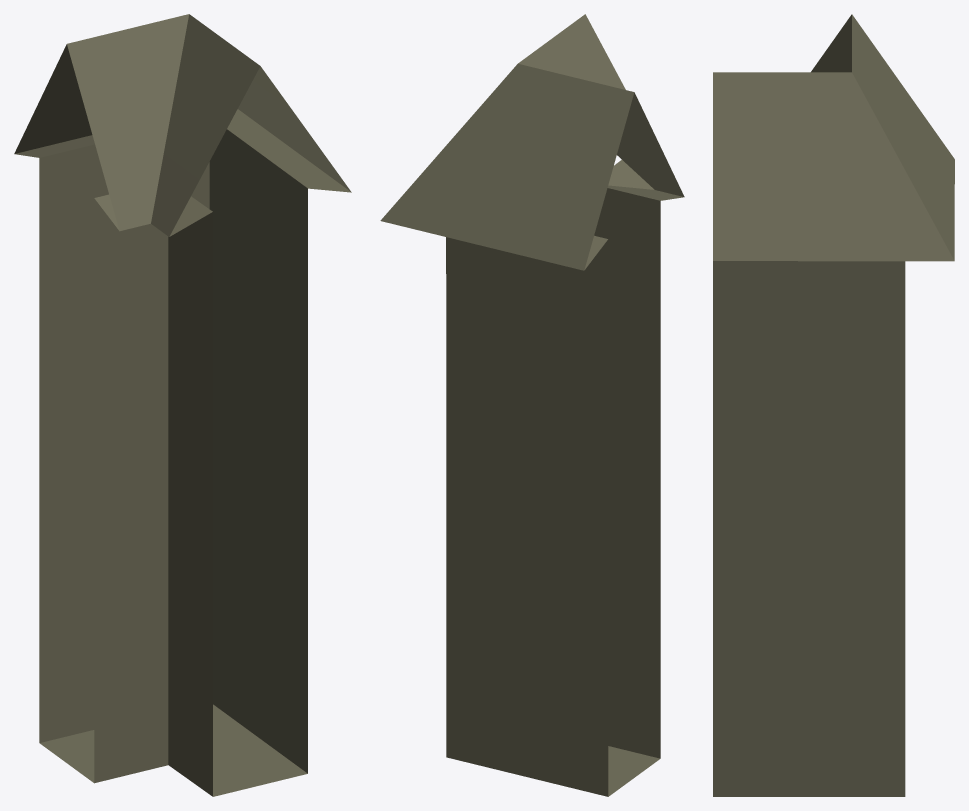
Rendered from FenceCorner_v01.glb.
3 views of the same model, side by side, from view 1: azimuth 30°, elevation 25°; view 2: azimuth 150°, elevation 25°; view 3: azimuth 270°, elevation 25° (orthographic). The views are drawn at different scales.
Parts seen in each view (by area): view 1: SM_FenceCorner; view 2: SM_FenceCorner; view 3: SM_FenceCorner.
Boxes of the visible parts, x1,y1,x2,y2 form: SM_FenceCorner: (14, 14, 351, 796); SM_FenceCorner: (380, 14, 684, 796); SM_FenceCorner: (713, 14, 954, 796).
Bounding box in the file's own units: 0.7594 × 2.44 × 0.761.
